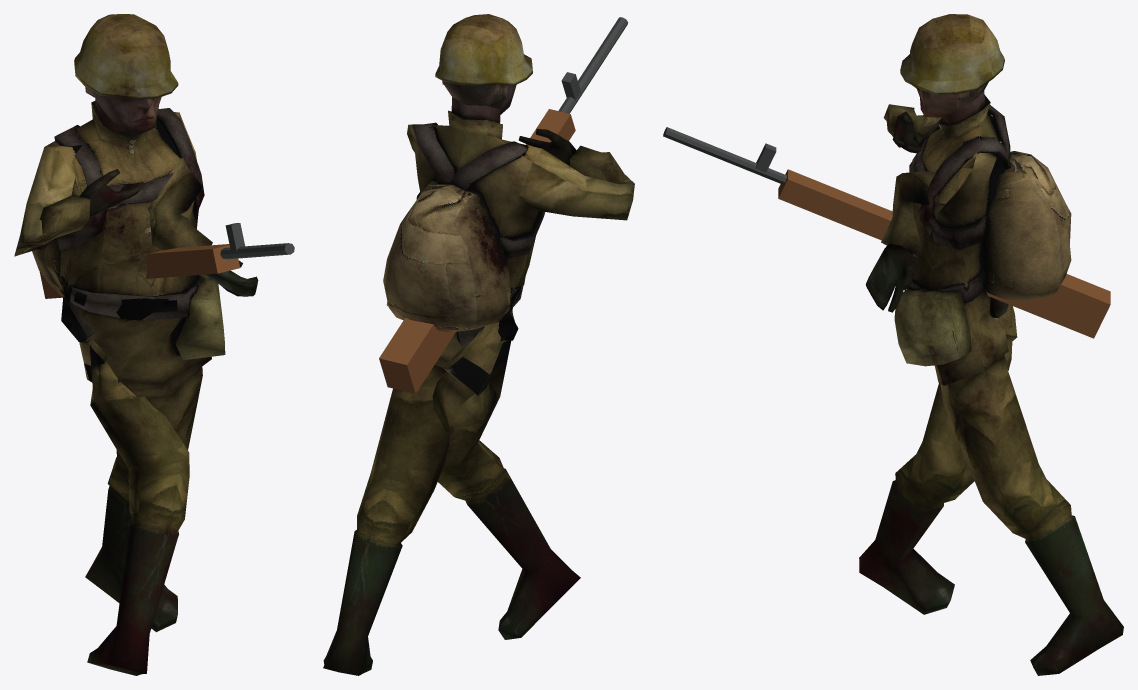
File: soviet_ww2_soldier_run_03.glb
3 renders of one model, left to right at view 1: azimuth 30°, elevation 25°; view 2: azimuth 150°, elevation 25°; view 3: azimuth 270°, elevation 25°, orthographic. The views are drawn at different scales.
Visible parts, largest first — view 1: final_Static, SovietRifle_Generated; view 2: final_Static, SovietRifle_Generated; view 3: final_Static, SovietRifle_Generated.
Part boxes in pixels (x1,y1,x2,y2): final_Static: [14, 14, 258, 675]; SovietRifle_Generated: [39, 223, 294, 298]; final_Static: [323, 14, 634, 675]; SovietRifle_Generated: [379, 17, 628, 393]; final_Static: [859, 14, 1123, 675]; SovietRifle_Generated: [663, 127, 1110, 338].
Size of the model in its own units: 0.6599 by 1.74 by 1.18.
3 materials, 1 textured.
